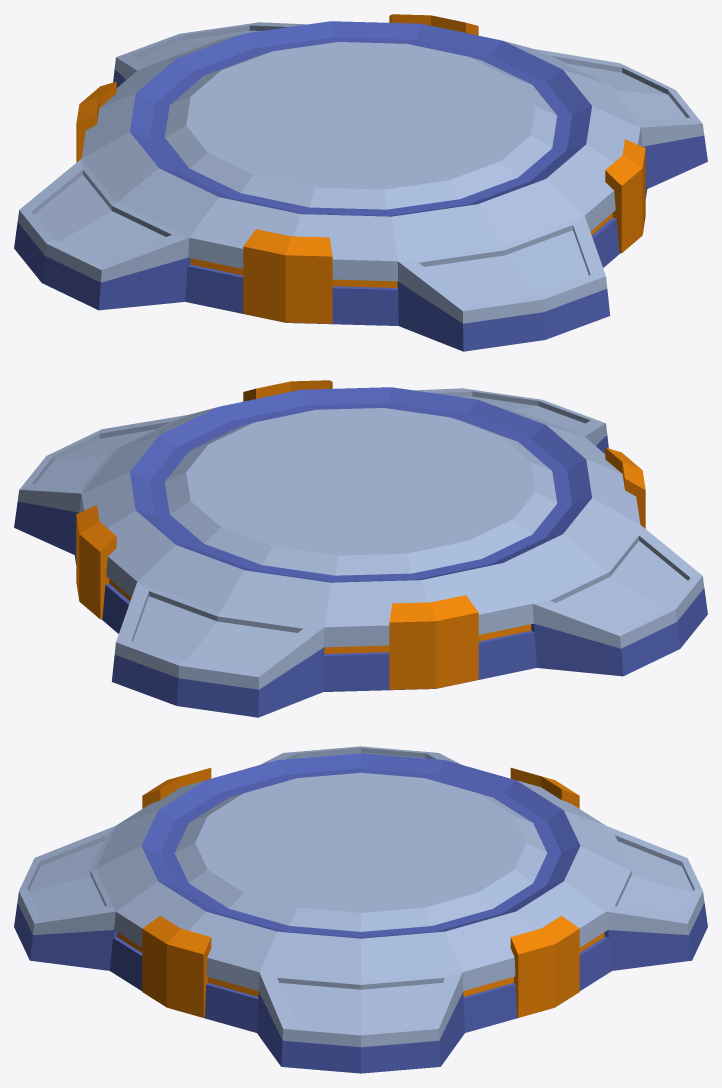
Rendered from base-palette.glb.
3 views of the same model, one above another, from view 1: azimuth 30°, elevation 25°; view 2: azimuth 150°, elevation 25°; view 3: azimuth 270°, elevation 25° (orthographic). The views are drawn at different scales.
Parts seen in each view (by area): view 1: Props_Base; view 2: Props_Base; view 3: Props_Base.
Part boxes in pixels (box(x1,y1,x2,y2)): Props_Base: box(14, 14, 707, 351); Props_Base: box(14, 380, 707, 717); Props_Base: box(14, 746, 707, 1073).
Bounding box in the file's own units: 2.4 × 0.3203 × 2.4.
